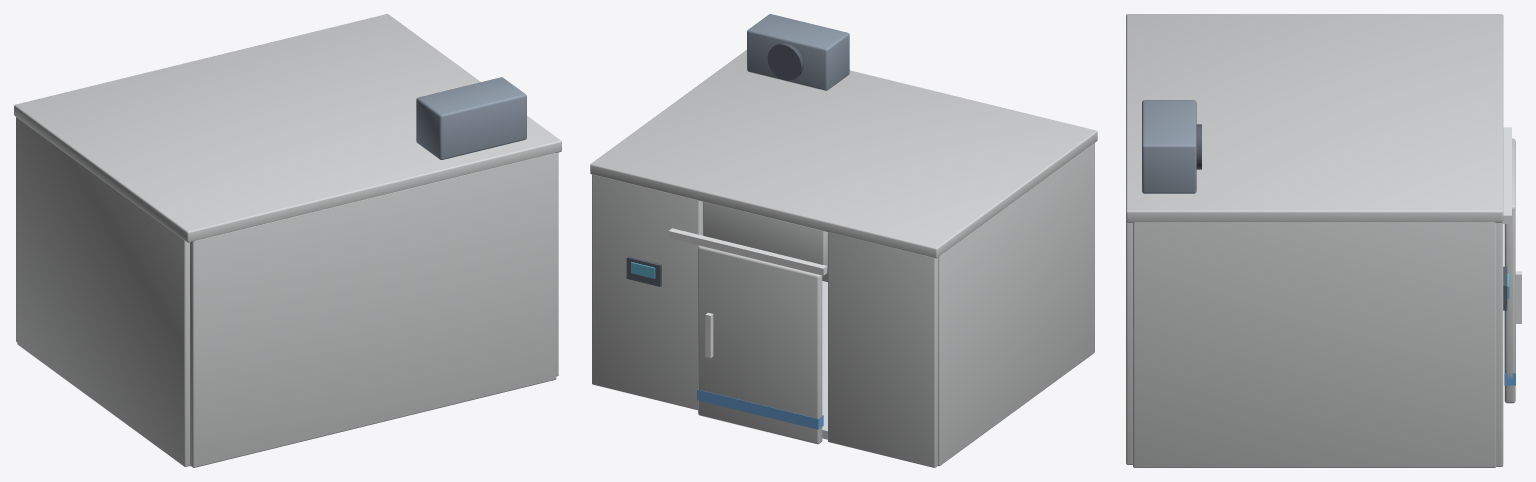
Rendered from Chlodnia.fbx.
The picture shows the model from 3 angles, left to right: view 1: azimuth 30°, elevation 25°; view 2: azimuth 150°, elevation 25°; view 3: azimuth 270°, elevation 25°; orthographic projection. The views are drawn at different scales.
Visible parts, largest first — view 1: Maszyna_Chlodnia_Korpus; view 2: Maszyna_Chlodnia_Korpus, Maszyna_Chlodnia_Drzwi; view 3: Maszyna_Chlodnia_Korpus, Maszyna_Chlodnia_Drzwi.
Part boxes in pixels (x1=…): Maszyna_Chlodnia_Korpus: x1=14, y1=14, x2=561, y2=467; Maszyna_Chlodnia_Korpus: x1=590, y1=14, x2=1097, y2=467; Maszyna_Chlodnia_Drzwi: x1=697, y1=245, x2=823, y2=444; Maszyna_Chlodnia_Korpus: x1=1126, y1=14, x2=1511, y2=467; Maszyna_Chlodnia_Drzwi: x1=1504, y1=138, x2=1521, y2=403.
Size of the model in its own units: 5.15 by 3.91 by 4.36.
